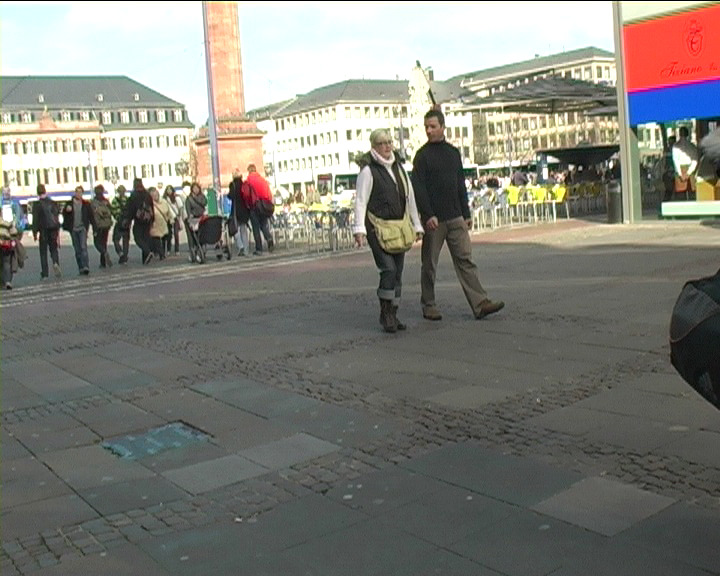deflection: (416, 110, 466, 175)
